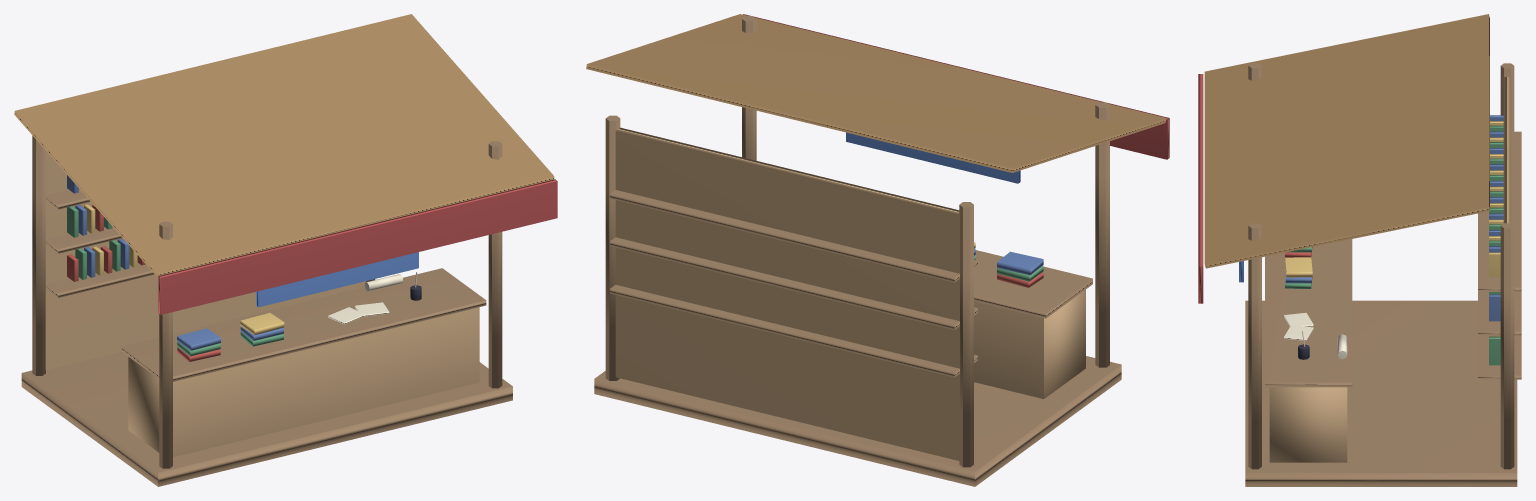
Rendered from puesto_libros.glb.
3 views of the same model, side by side, from view 1: azimuth 30°, elevation 25°; view 2: azimuth 150°, elevation 25°; view 3: azimuth 270°, elevation 25° (orthographic). The views are drawn at different scales.
Parts seen in each view (by area): view 1: Pz_Toldo, Grupo_0_9piezas, Grupo_1_2piezas, Pz_Toldo_Franja, Pz_Letrero_Puesto, Grupo_4_28piezas, Grupo_3_28piezas, Grupo_5_26piezas, Grupo_6_4piezas, Grupo_2_26piezas; view 2: Grupo_1_2piezas, Grupo_0_9piezas, Pz_Toldo, Pz_Toldo_Franja, Pz_Letrero_Puesto, Grupo_4_28piezas; view 3: Pz_Toldo, Grupo_0_9piezas, Grupo_1_2piezas, Grupo_5_26piezas, Pz_Toldo_Franja, Grupo_3_28piezas, Grupo_4_28piezas, Grupo_6_4piezas.
Boxes of the visible parts, x1=… form: Pz_Toldo: x1=14, y1=14, x2=554, y2=276; Grupo_0_9piezas: x1=21, y1=135, x2=512, y2=486; Grupo_1_2piezas: x1=45, y1=151, x2=479, y2=457; Pz_Toldo_Franja: x1=158, y1=179, x2=557, y2=314; Pz_Letrero_Puesto: x1=256, y1=252, x2=418, y2=307; Grupo_4_28piezas: x1=67, y1=175, x2=283, y2=350; Grupo_3_28piezas: x1=67, y1=206, x2=283, y2=356; Grupo_5_26piezas: x1=78, y1=188, x2=284, y2=335; Grupo_6_4piezas: x1=328, y1=272, x2=417, y2=324; Grupo_2_26piezas: x1=67, y1=205, x2=220, y2=361; Grupo_1_2piezas: x1=615, y1=127, x2=1085, y2=460; Grupo_0_9piezas: x1=594, y1=16, x2=1121, y2=486; Pz_Toldo: x1=586, y1=14, x2=1166, y2=172; Pz_Toldo_Franja: x1=743, y1=14, x2=1169, y2=159; Pz_Letrero_Puesto: x1=846, y1=132, x2=1020, y2=183; Grupo_4_28piezas: x1=974, y1=249, x2=1043, y2=275; Pz_Toldo: x1=1204, y1=14, x2=1489, y2=268; Grupo_0_9piezas: x1=1245, y1=63, x2=1521, y2=486; Grupo_1_2piezas: x1=1269, y1=77, x2=1511, y2=462; Grupo_5_26piezas: x1=1285, y1=121, x2=1503, y2=336; Pz_Toldo_Franja: x1=1198, y1=74, x2=1203, y2=303; Grupo_3_28piezas: x1=1285, y1=125, x2=1503, y2=365; Grupo_4_28piezas: x1=1285, y1=115, x2=1503, y2=321; Grupo_6_4piezas: x1=1284, y1=312, x2=1347, y2=359.
Size of the model in its own units: 4.7 by 3.3 by 3.33.
